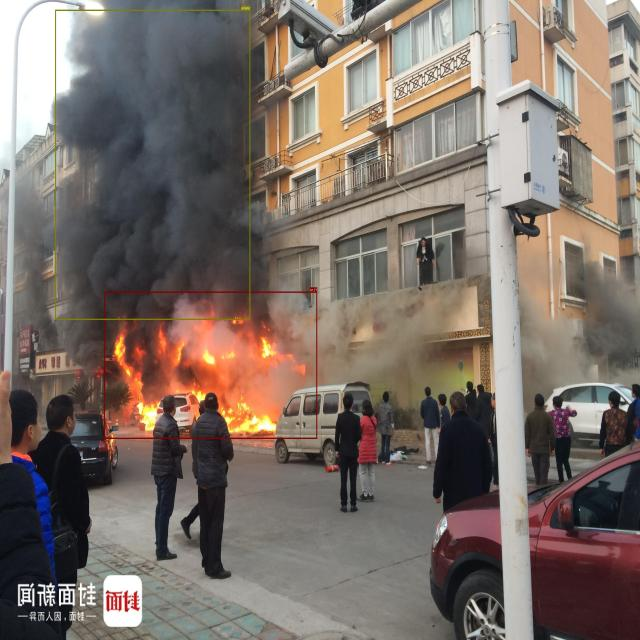fire: (105, 291, 318, 439)
smoke: (56, 9, 250, 320)
